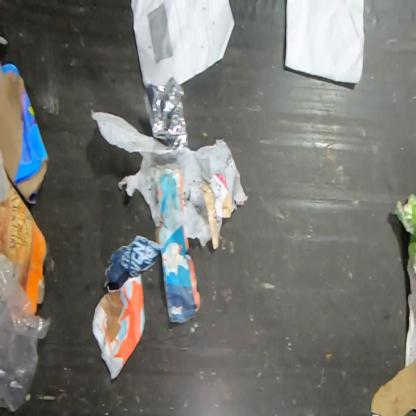cardboard: (0, 58, 50, 209), (0, 172, 50, 315), (370, 356, 415, 415)
metal: (142, 76, 188, 149)
soft_plastic: (90, 109, 248, 249), (0, 252, 53, 414)
